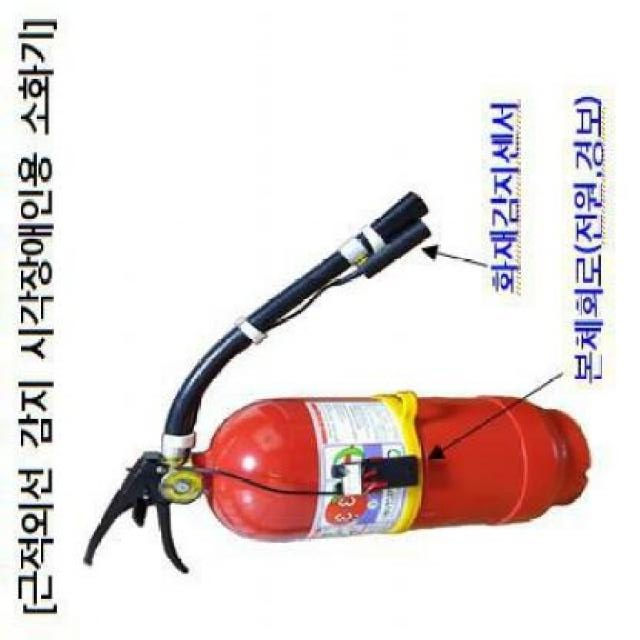fire extinguisher: (82, 191, 593, 574)
